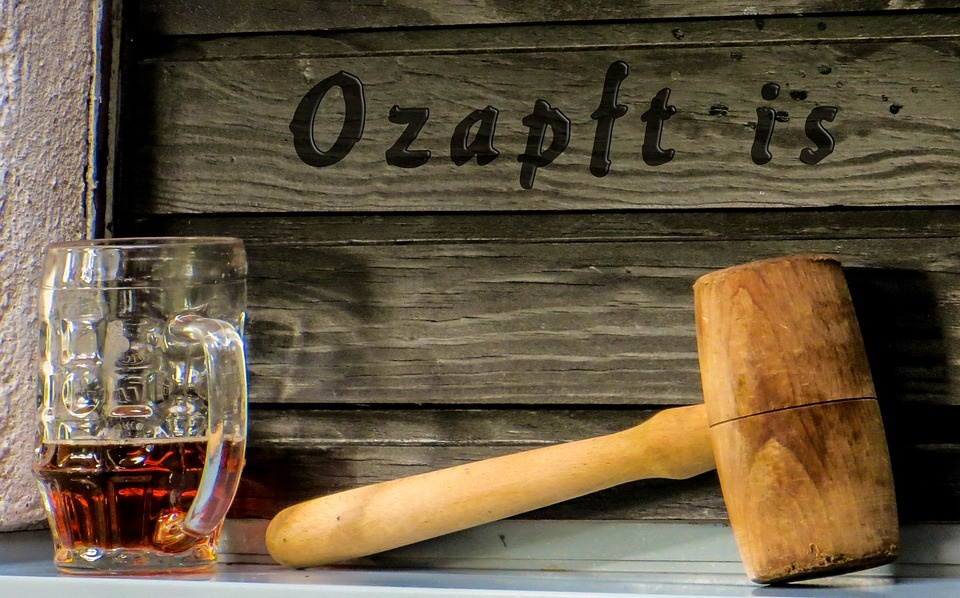glassBeer: (39, 226, 263, 564)
